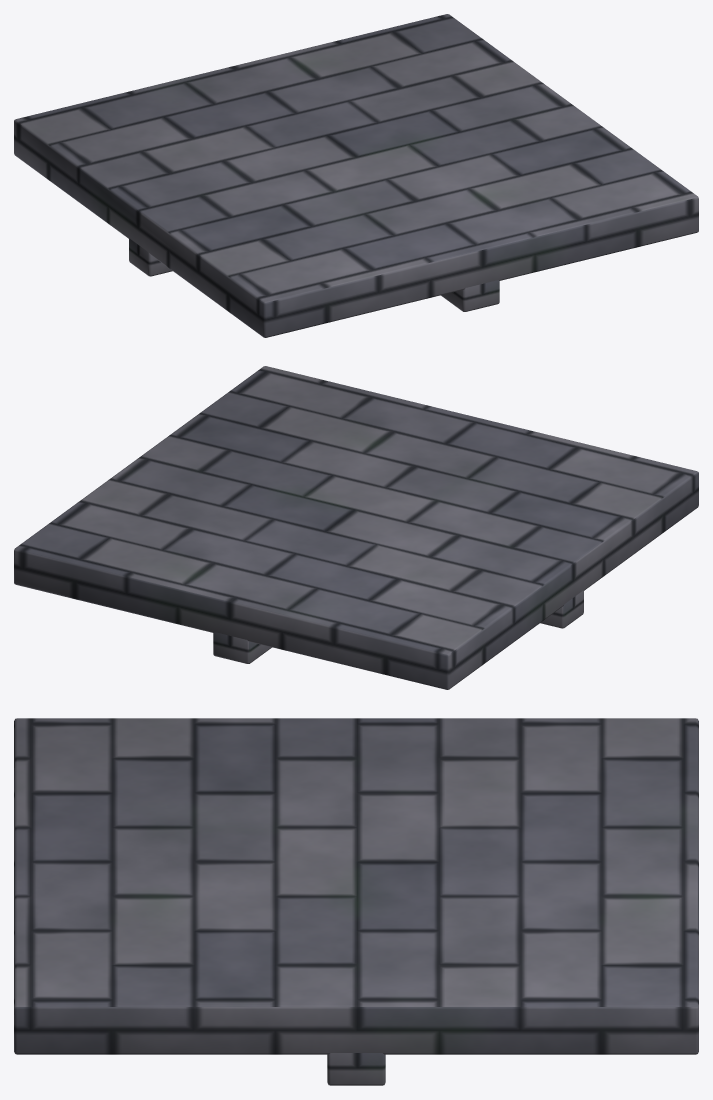
Rendered from ceiling_tile.glb.
3 views of the same model, one above another, from view 1: azimuth 30°, elevation 25°; view 2: azimuth 150°, elevation 25°; view 3: azimuth 270°, elevation 25° (orthographic). The views are drawn at different scales.
Parts seen in each view (by area): view 1: CeilSlab, RibY, RibX; view 2: CeilSlab, RibY, RibX; view 3: CeilSlab, RibX.
Part boxes in pixels (left/top/right/bottom): CeilSlab: left=14, top=14, right=698, bottom=337; RibY: left=441, top=280, right=499, bottom=311; RibX: left=129, top=238, right=172, bottom=276; CeilSlab: left=14, top=366, right=698, bottom=689; RibY: left=213, top=632, right=271, bottom=663; RibX: left=540, top=590, right=583, bottom=628; CeilSlab: left=14, top=718, right=698, bottom=1054; RibX: left=327, top=1053, right=385, bottom=1085.
Bounding box in the file's own units: 4 × 0.54 × 4.
Materials: 3 (3 with a texture image).
